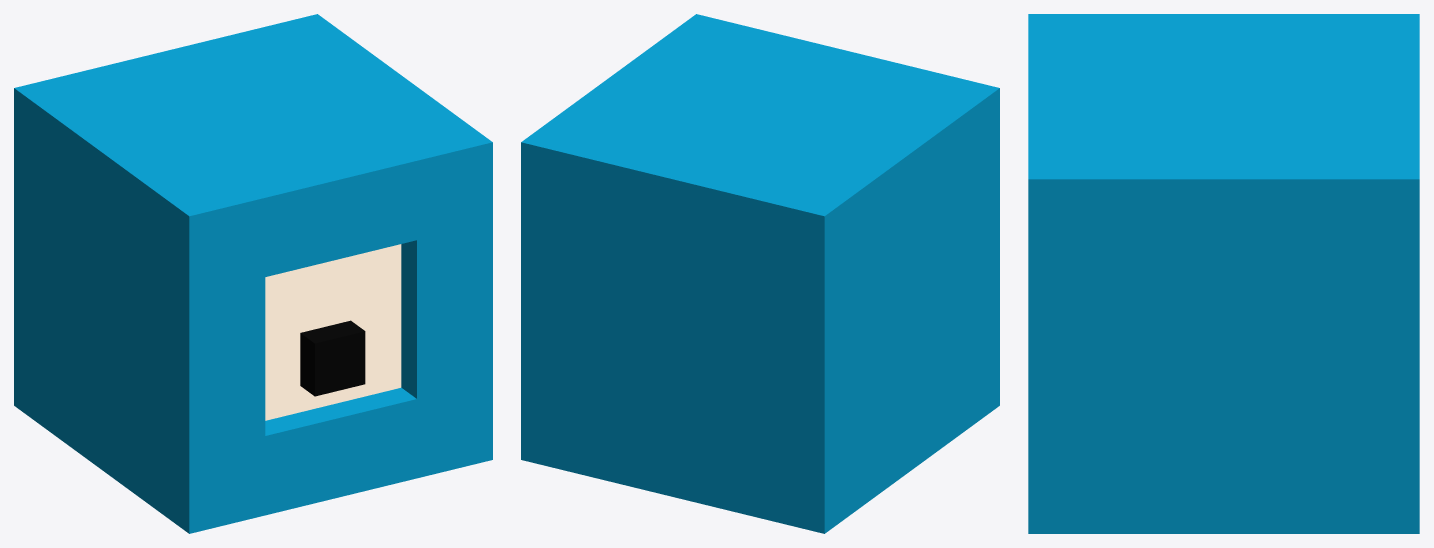
Rendered from cyclops-air.glb.
The picture shows the model from 3 angles, left to right: view 1: azimuth 30°, elevation 25°; view 2: azimuth 150°, elevation 25°; view 3: azimuth 270°, elevation 25°; orthographic projection. The views are drawn at different scales.
Parts seen in each view (by area): view 1: cyclops-air, cyclops-air-white, cyclops-air-pupil; view 2: cyclops-air; view 3: cyclops-air.
Boxes of the visible parts, x1,y1,x2,y2 form: cyclops-air: [14, 14, 492, 533]; cyclops-air-white: [265, 244, 401, 420]; cyclops-air-pupil: [300, 320, 365, 396]; cyclops-air: [521, 14, 999, 533]; cyclops-air: [1028, 14, 1419, 533].
Size of the model in its own units: 0.6 by 0.6 by 0.6.
